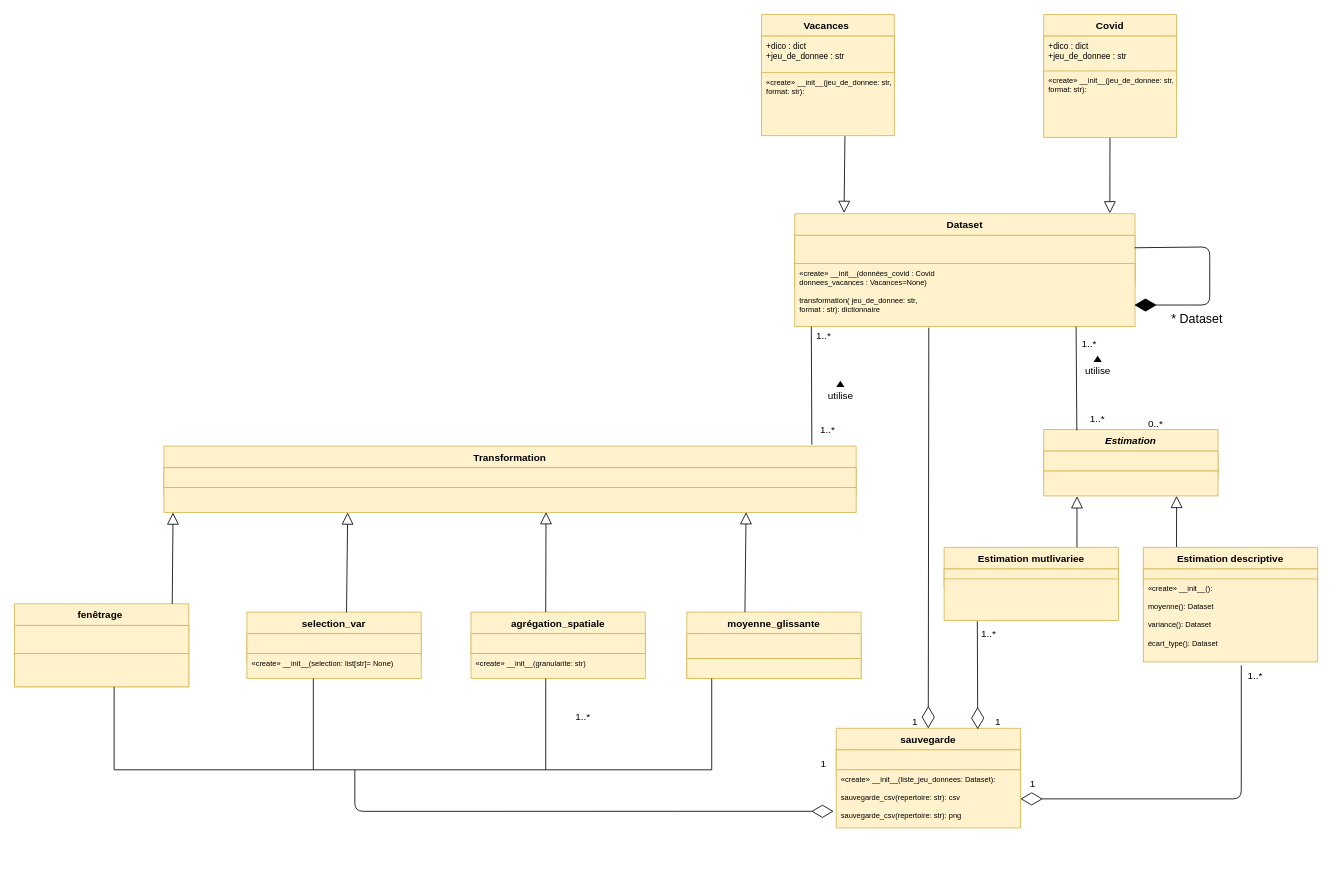
Some shapes in this 1332 by 870 pixel diagram are drawn without their labels. The shapes that lost their labels are listed below. From the top down, each one's centre as x and y in pixels, then its label:
At (964,257): "+donnees_covid: Covid +donnees_vacances: Vacances".
At (509,500): "«create» __init__()".
At (1130,483): "«create» __init__():".
At (1030,599): "«create» __init__(): Kmeans(k:int): Dataset".
At (101,639): "+plage : int +plage_txt : str".
At (333,643): "+selection : list[str]".
At (557,643): "+granularite : str".
At (773,646): "+time : int".
At (101,670): "«create» __init__(plage: int = None, plage_txt: str= None)".
At (773,668): "«create» __init__(time: int)".
At (927,759): "+liste_jeu_donnees: Dataset".
